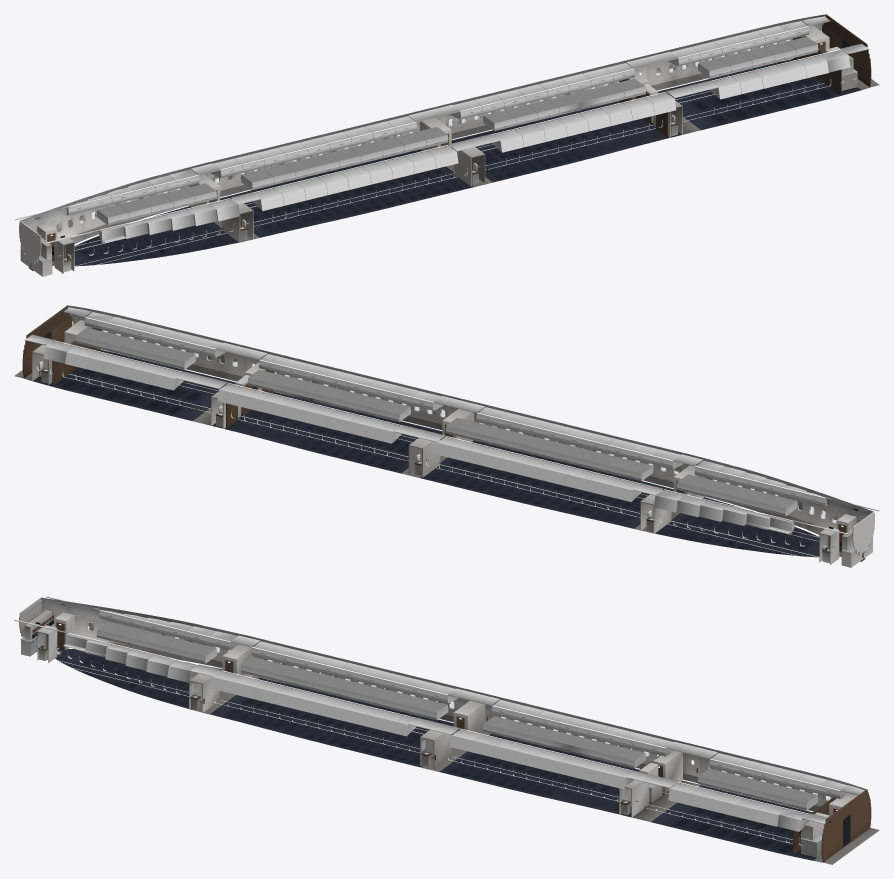
Rendered from ma-900-cabin.glb.
3 renders of one model, top to bottom at view 1: azimuth 30°, elevation 25°; view 2: azimuth 150°, elevation 25°; view 3: azimuth 330°, elevation 25°, orthographic.
Visible parts, largest first — view 1: Cabin_Overhead, Cabin_Floor, Cabin_Monuments, Cabin_Lining, Cabin_Reveals; view 2: Cabin_Overhead, Cabin_Floor, Cabin_Monuments, Cabin_Lining, Cabin_Reveals; view 3: Cabin_Overhead, Cabin_Floor, Cabin_Monuments, Cabin_Lining, Cabin_Reveals.
Boxes of the visible parts, <box> form: Cabin_Overhead: <box>14,16,868,243</box>; Cabin_Floor: <box>28,59,879,272</box>; Cabin_Monuments: <box>19,14,871,276</box>; Cabin_Lining: <box>19,14,825,266</box>; Cabin_Reveals: <box>56,39,856,255</box>; Cabin_Overhead: <box>25,307,879,534</box>; Cabin_Floor: <box>14,350,865,563</box>; Cabin_Monuments: <box>22,305,874,567</box>; Cabin_Lining: <box>68,305,874,557</box>; Cabin_Reveals: <box>37,330,836,546</box>; Cabin_Overhead: <box>14,596,868,831</box>; Cabin_Floor: <box>39,648,879,864</box>; Cabin_Monuments: <box>19,597,871,862</box>; Cabin_Lining: <box>35,597,870,825</box>; Cabin_Reveals: <box>56,622,829,845</box>.
Bounding box in the file's own units: 61.43 × 2.9 × 7.06.
21 materials, 7 textured.
